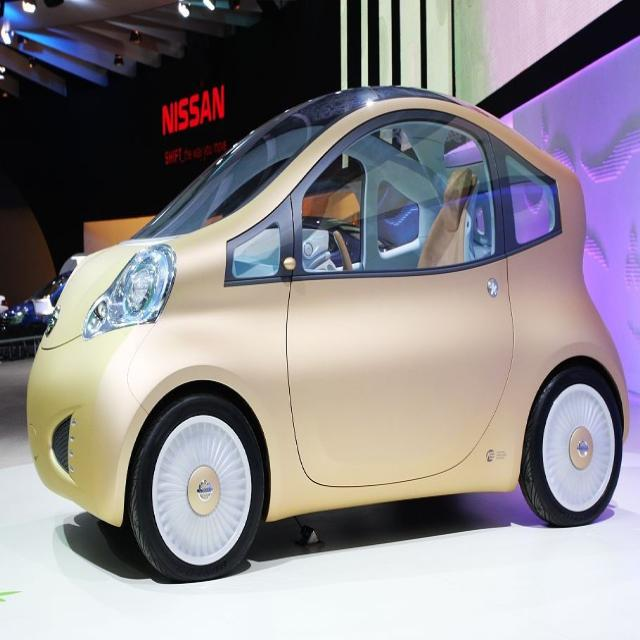front_bumper: (24, 318, 150, 529)
front_glass: (136, 97, 331, 241)
front_left_side_door: (285, 107, 516, 489)
front_left_side_light: (79, 242, 178, 342)
wheel: (129, 391, 264, 580), (520, 364, 623, 527)
